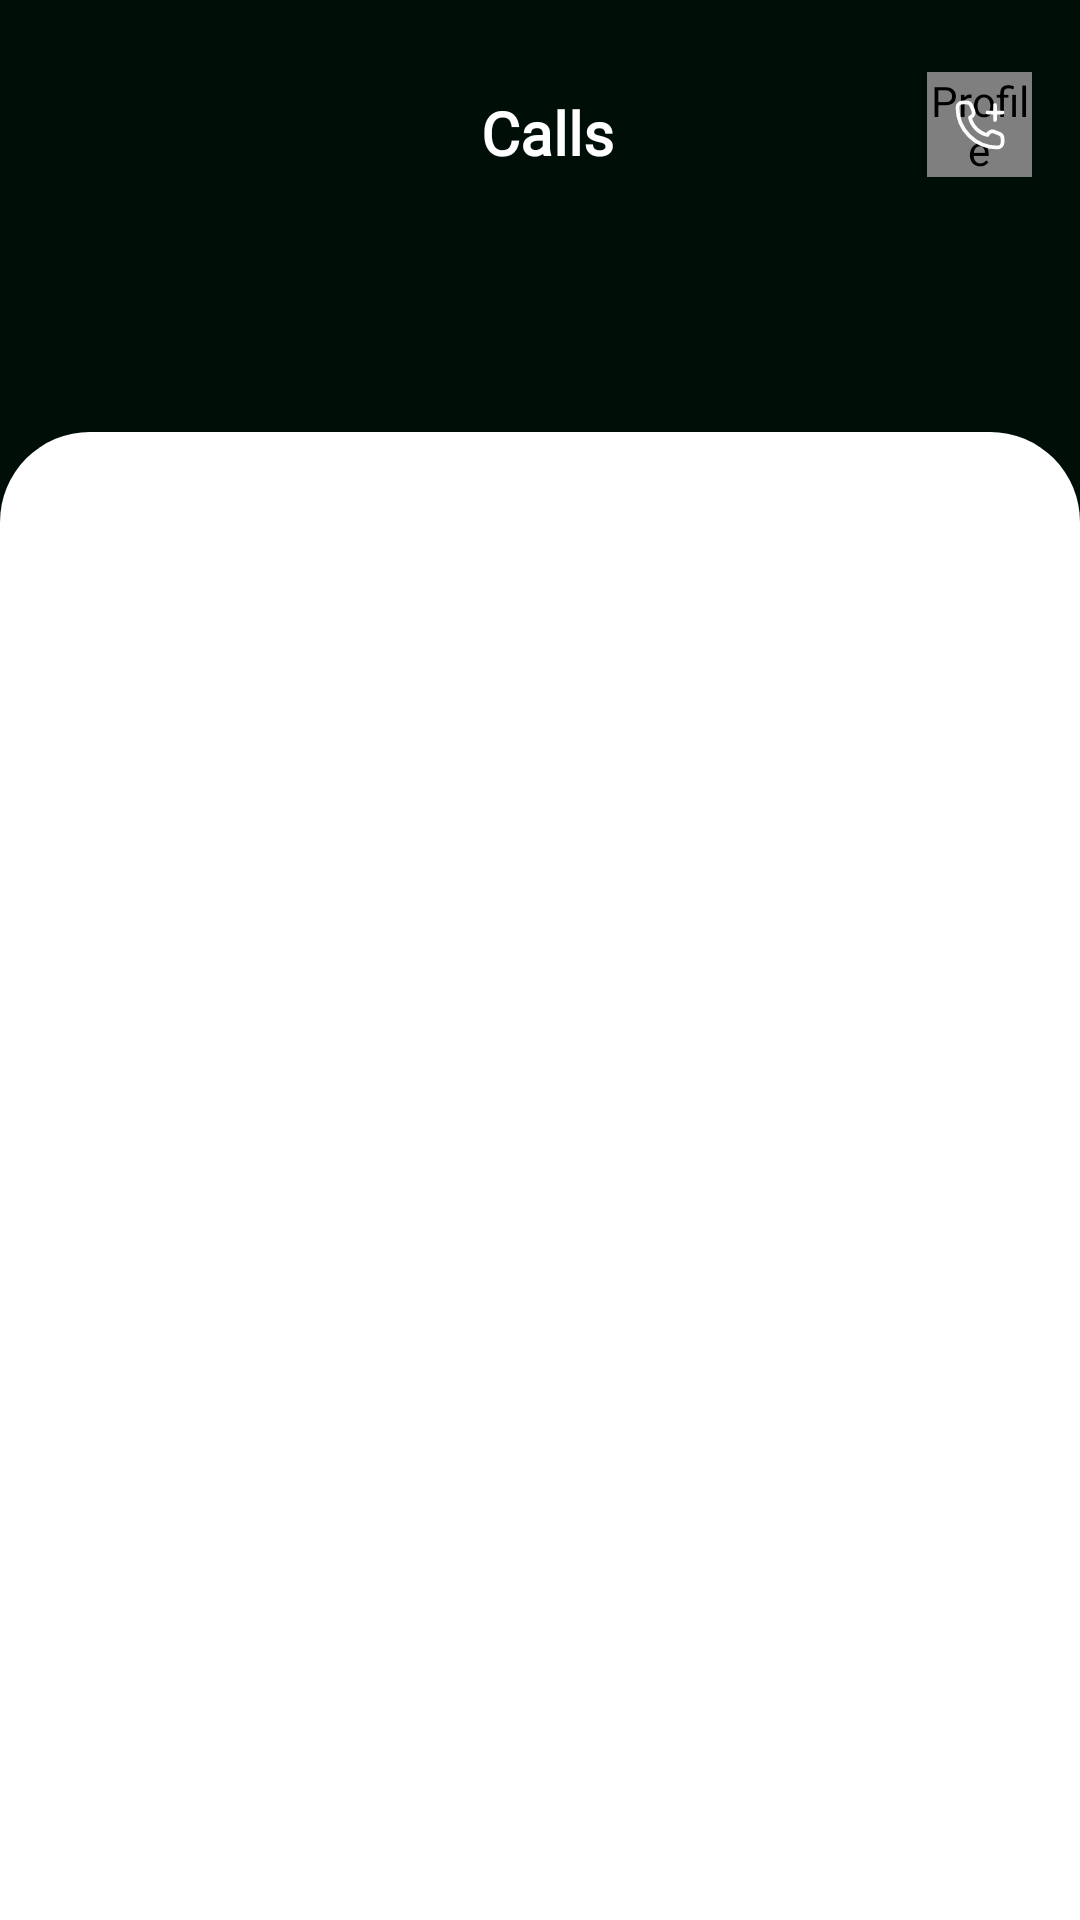

Named icons in this screenshot (1080px×1920px) and their bounding boxes, (x1,y1,x2,y2):
call user: (950,95,1009,155)
